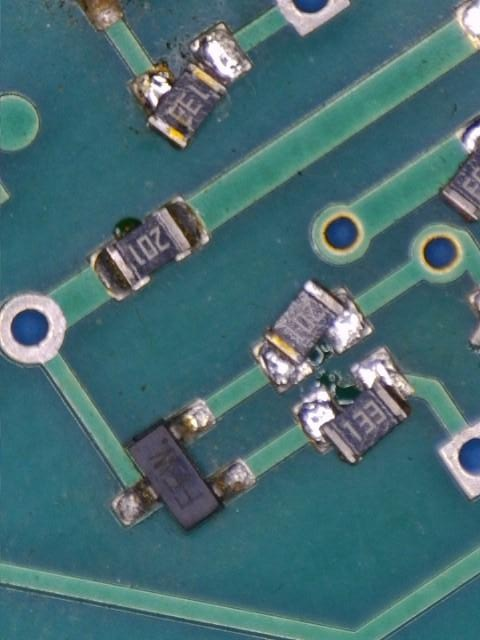pcb_defect: (126, 21, 254, 151), (289, 345, 417, 466), (249, 279, 372, 394), (440, 115, 480, 223)
